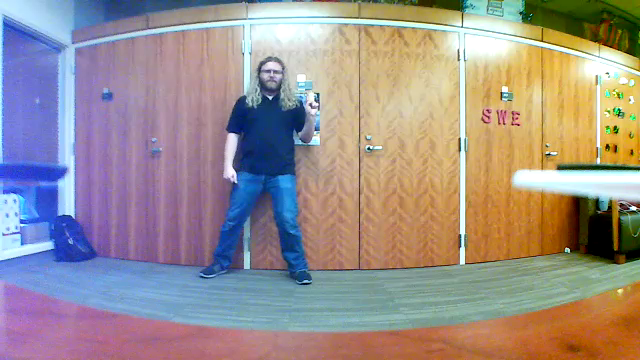up: (302, 84, 321, 118)
